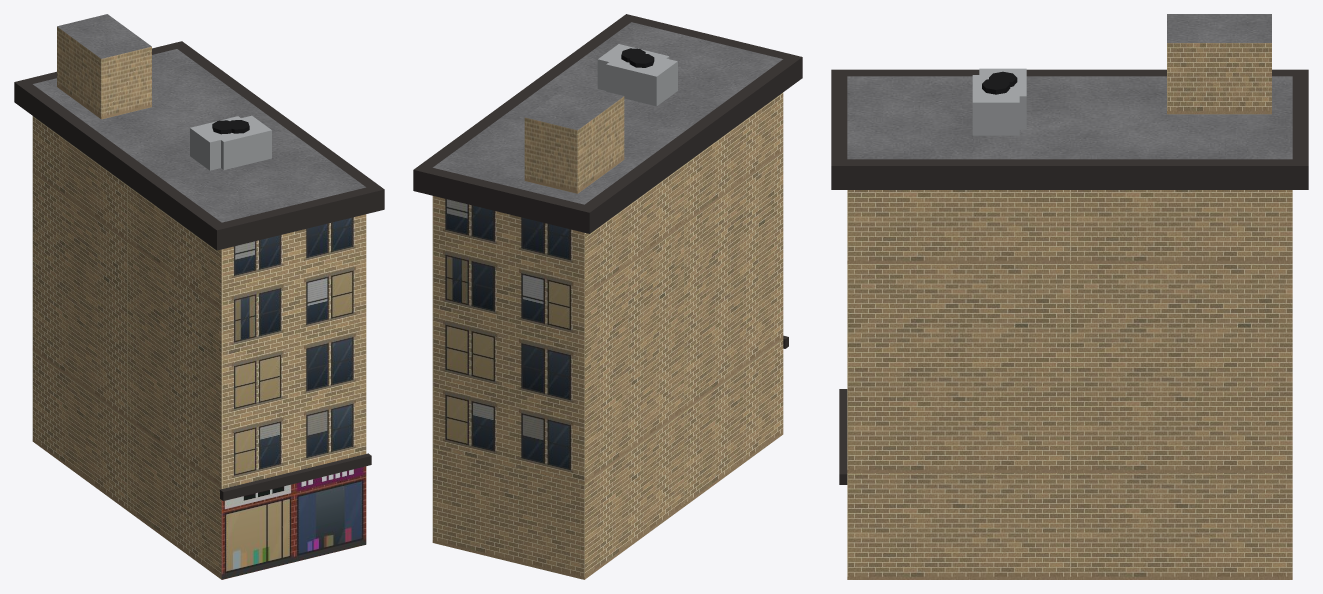
Rendered from 012_tenement_oldlaw.glb.
The picture shows the model from 3 angles, left to right: view 1: azimuth 30°, elevation 25°; view 2: azimuth 150°, elevation 25°; view 3: azimuth 270°, elevation 25°; orthographic projection. The views are drawn at different scales.
Parts seen in each view (by area): view 1: 012_tenement_oldlaw; view 2: 012_tenement_oldlaw; view 3: 012_tenement_oldlaw.
Boxes of the visible parts, x1=… form: 012_tenement_oldlaw: x1=14, y1=14, x2=384, y2=579; 012_tenement_oldlaw: x1=413, y1=14, x2=802, y2=579; 012_tenement_oldlaw: x1=831, y1=14, x2=1308, y2=579.
Bounding box in the file's own units: 8.7 × 20.7 × 18.2.
Materials: 7 (4 with a texture image).
